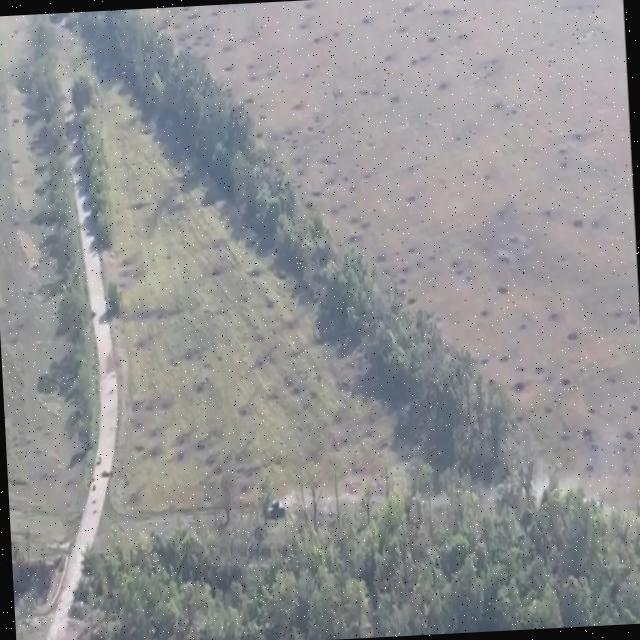AIFV: (581, 495, 603, 514)
MBT: (265, 497, 288, 523)
